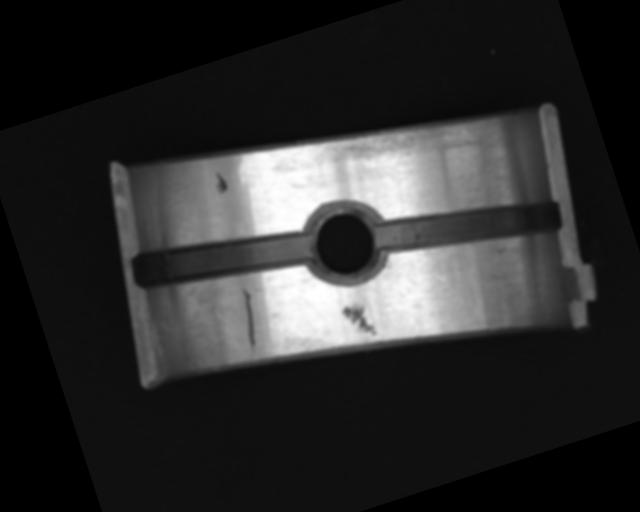bruise: (339, 297, 380, 343), (210, 169, 229, 196)
gap: (370, 168, 565, 283), (129, 204, 314, 311)
hole: (293, 189, 394, 291)
nick: (231, 286, 267, 355)
scratch: (317, 95, 481, 190)
